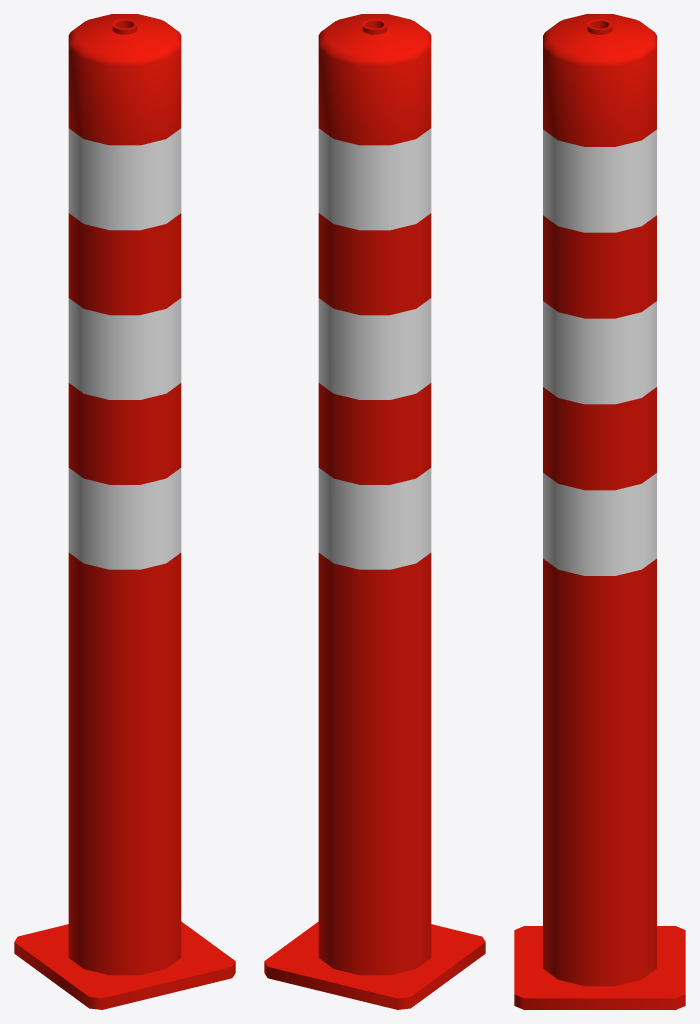
Rendered from Prop_TrafficPole.fbx.
3 renders of one model, left to right at view 1: azimuth 30°, elevation 25°; view 2: azimuth 150°, elevation 25°; view 3: azimuth 270°, elevation 25°, orthographic.
Visible parts, largest first — view 1: Prop_TrafficPole; view 2: Prop_TrafficPole; view 3: Prop_TrafficPole.
Part boxes in pixels (x1,y1,x2,y2): Prop_TrafficPole: (14,14,235,1009); Prop_TrafficPole: (264,14,485,1009); Prop_TrafficPole: (514,14,685,1009).
Size of the model in its own units: 7.31 by 44.72 by 7.31.
